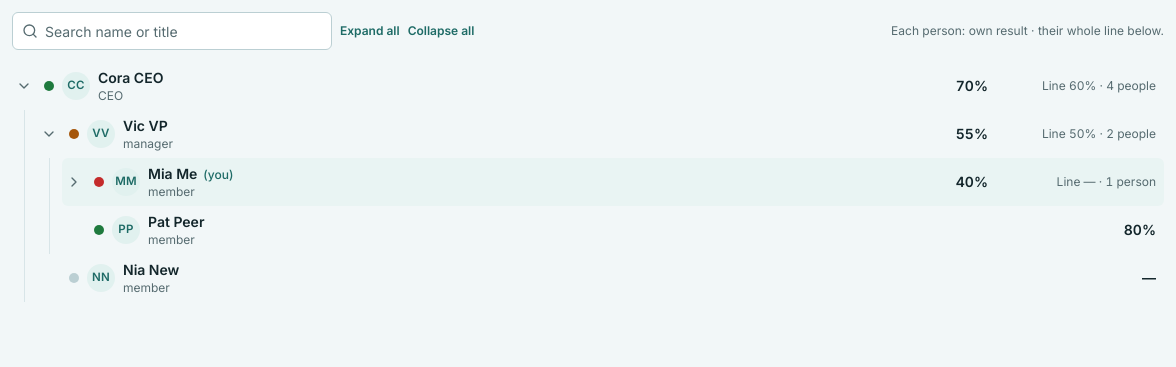
company org chart › starts with the top two levels open, expands on demand, and a search reveals deep matches
Expected: the text "Cora CEO" is shown, [98,69,163,86]
Expected: the text "Mia Me" is shown, [148,165,197,182]
Click the button named "expand mia me's line".
click(74, 182)  # box [62,170,86,194]
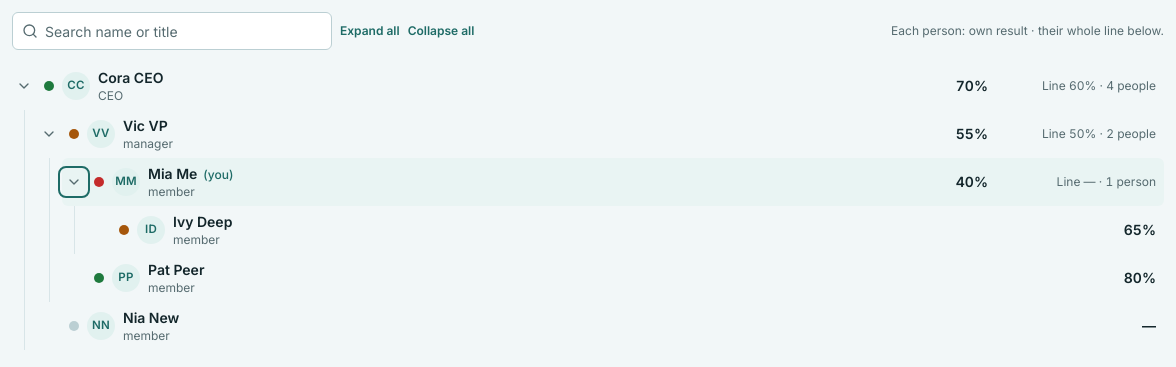
Expected: the text "Ivy Deep" is shown, [173,213,232,230]
Click the button named "collapse mia me's line".
click(74, 182)  # box [62,170,86,194]
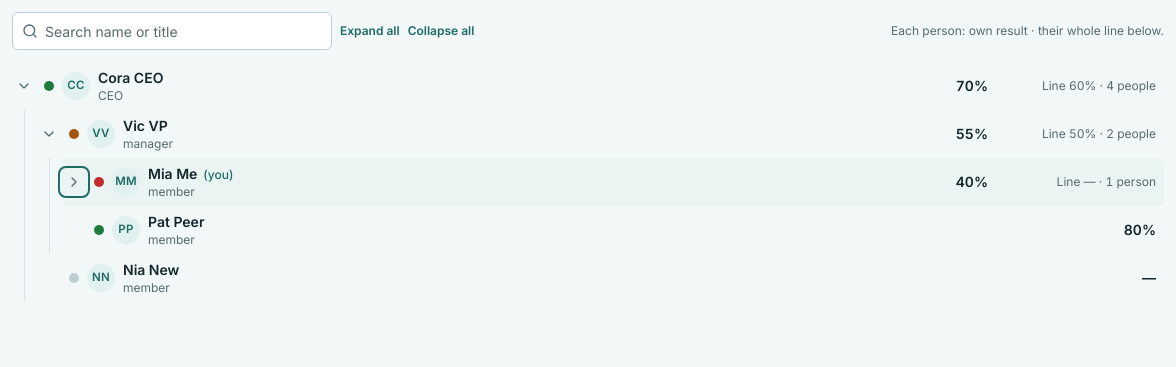
Expected: the button "Ivy Deep" is gone
Type "ivy" into the field named "search people".
click(172, 31); type("ivy")  # box [12,12,332,50]
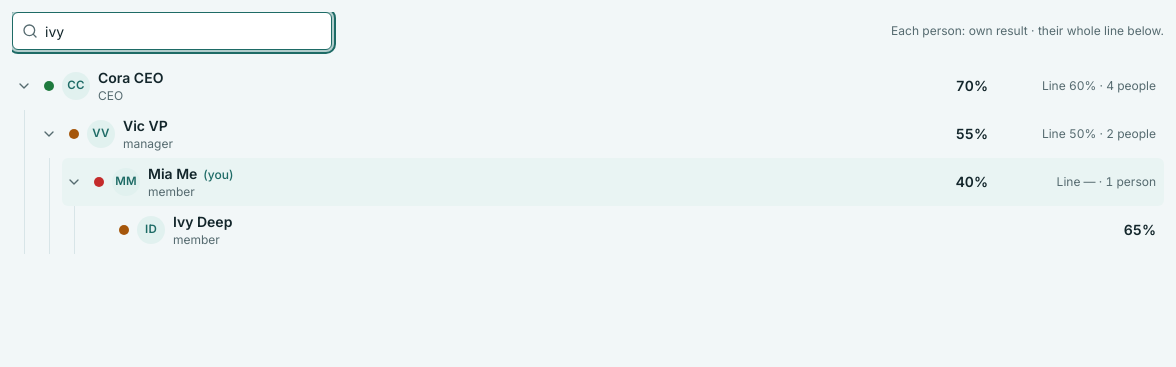
Expected: the text "Ivy Deep" is shown, [173,213,232,230]
Expected: the button "Pat Peer" is gone
